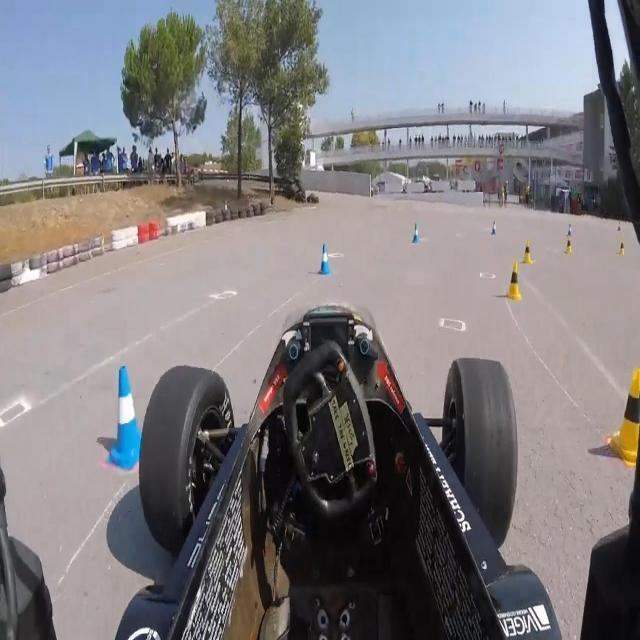blue_cone: (106, 365, 148, 470), (319, 244, 331, 275), (413, 222, 420, 243), (492, 220, 498, 236)
yellow_cone: (607, 367, 640, 465), (506, 260, 523, 300), (523, 241, 533, 263), (565, 237, 573, 256), (619, 239, 625, 256)
